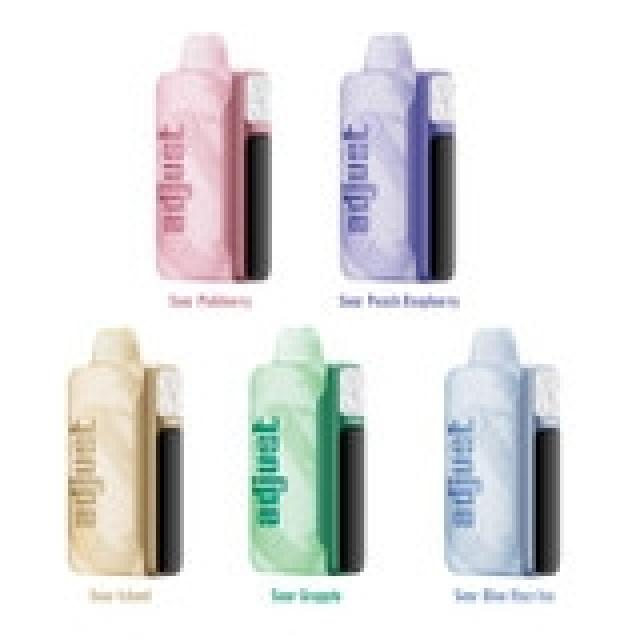Vape-images: (148, 28, 272, 280), (336, 28, 456, 280)
